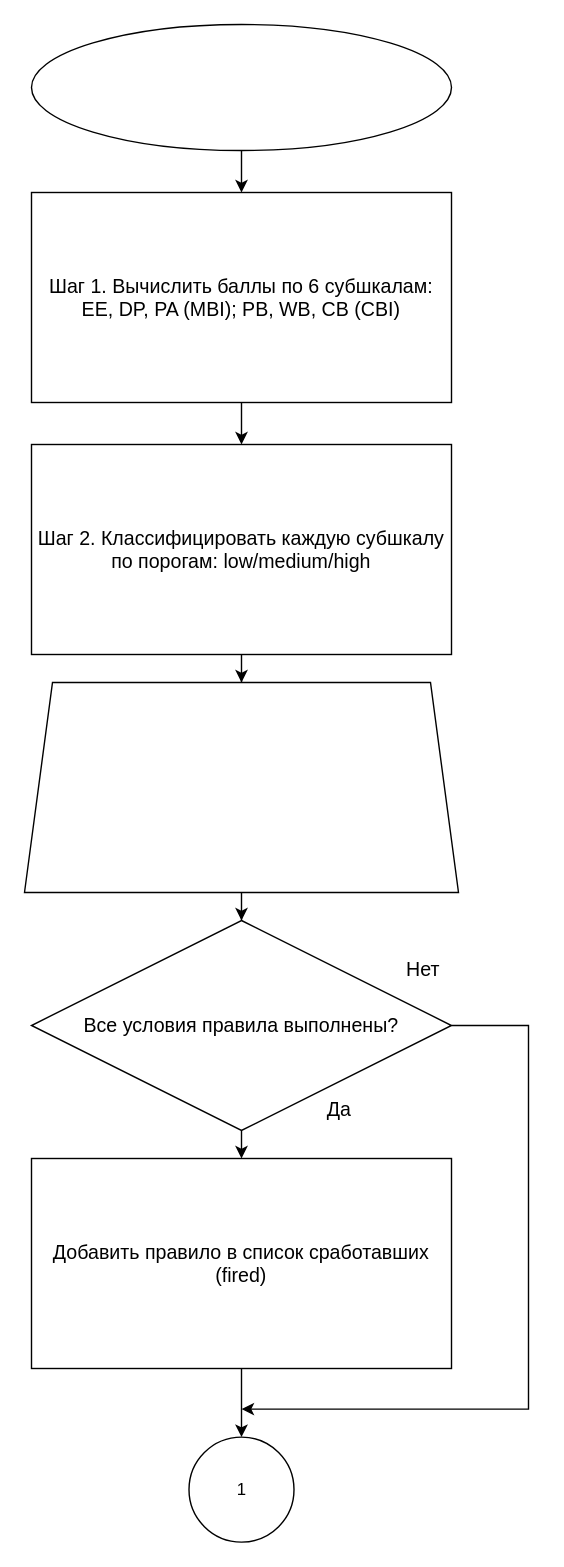
Image size: 564x1567. Some labels were removed from this diagram. Each missing label, with the centre of its shape:
Начало: the point at 240,86
Шаг 3. Взять следующее правило из базы (41 правило IF-THEN): the point at 240,786
